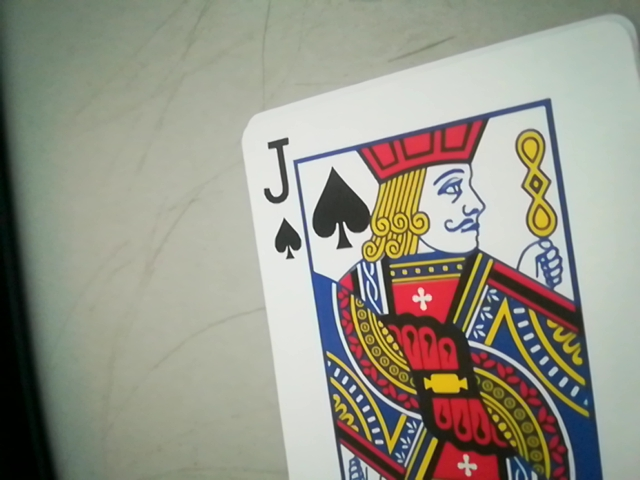ht j: (250, 131, 307, 266)
